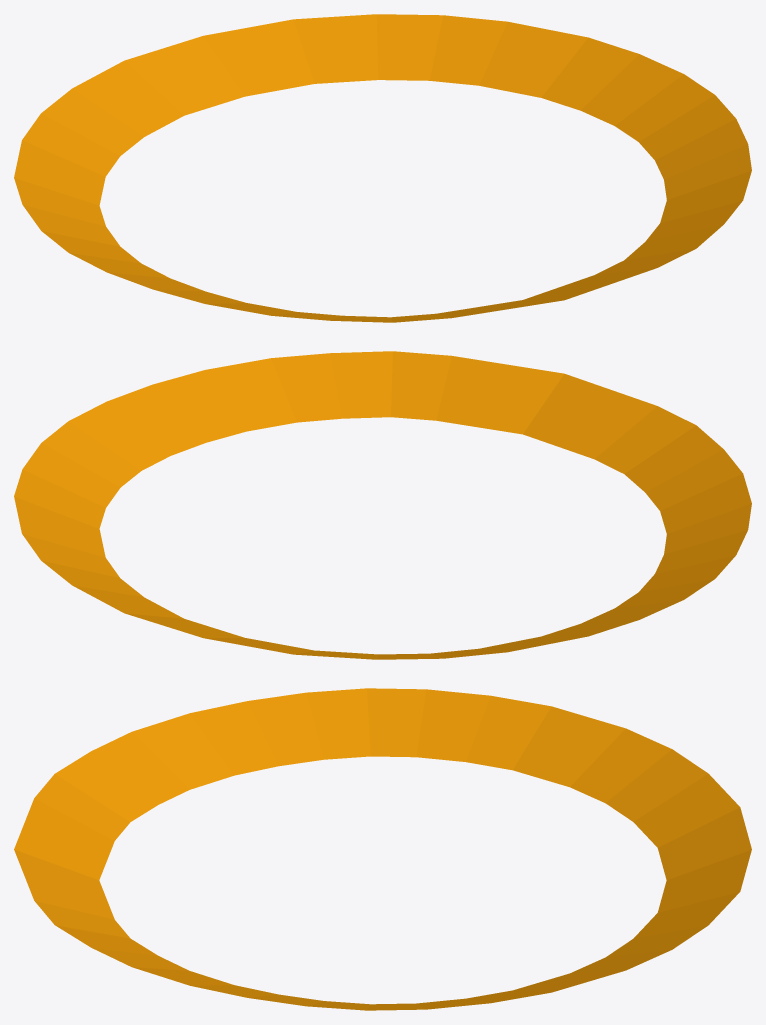
The model's file is collision_bigball.glb.
3 views of the same model, one above another, from view 1: azimuth 30°, elevation 25°; view 2: azimuth 150°, elevation 25°; view 3: azimuth 270°, elevation 25° (orthographic). The views are drawn at different scales.
Visible parts, largest first — view 1: Collision_bigball; view 2: Collision_bigball; view 3: Collision_bigball.
Boxes of the visible parts, bbox=[...] form: Collision_bigball: bbox=[14, 14, 751, 322]; Collision_bigball: bbox=[14, 351, 751, 659]; Collision_bigball: bbox=[14, 688, 751, 1010].
Size of the model in its own units: 6.15 by 0.2747 by 5.95.
